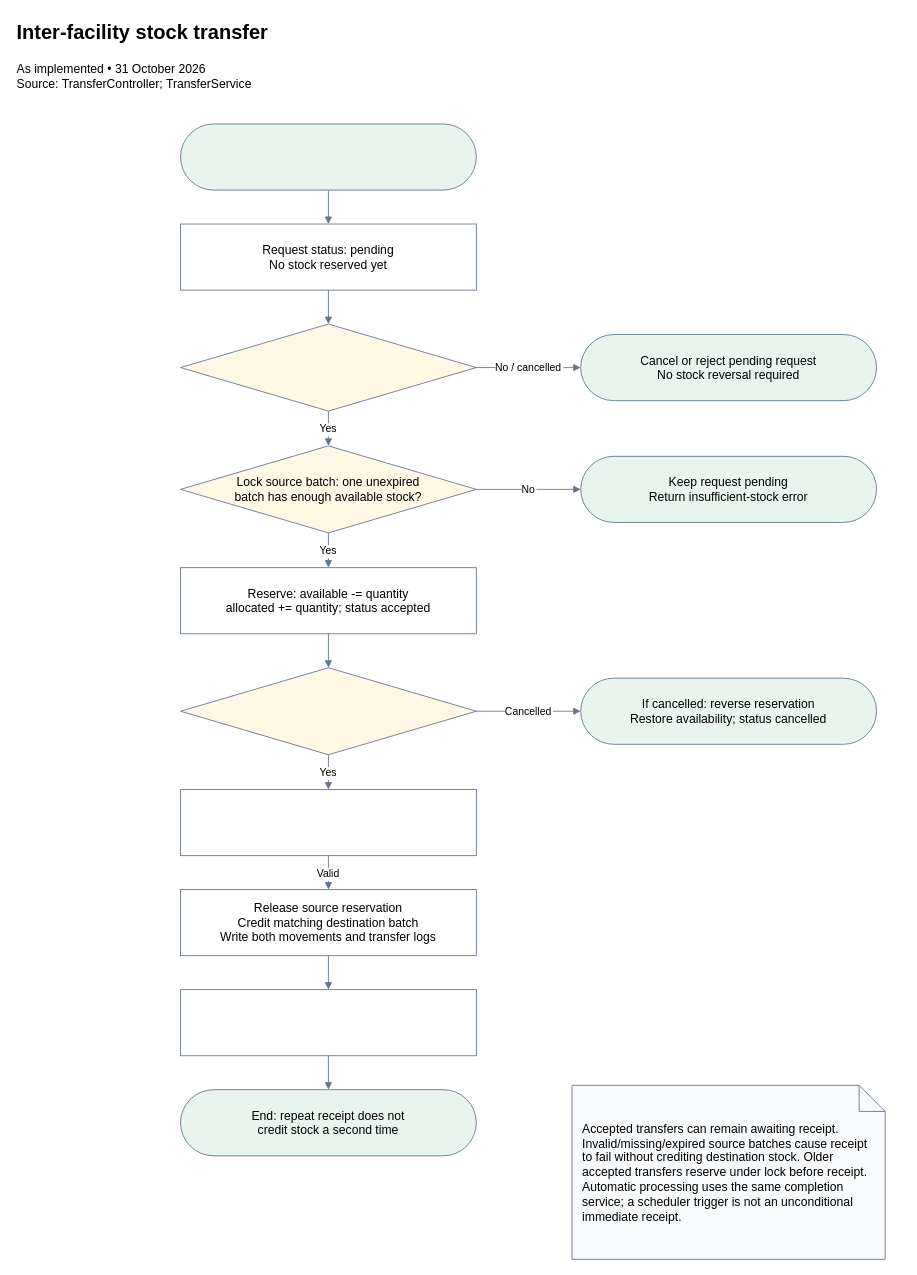
Some shapes in this 917 by 1275 pixel diagram are drawn without their labels. The centre of each missing label's shape, as x and y in pixels:
Commit status received Notify both facilities; audit completion: (328,1022)
Lock request and source; verify reservation and batch are still valid: (328,822)
Receipt confirmed or automatically processed?: (328,711)
Source accepts request? Cancel / reject otherwise: (328,367)
Start: authorized admin / staff creates a transfer request: (328,156)
